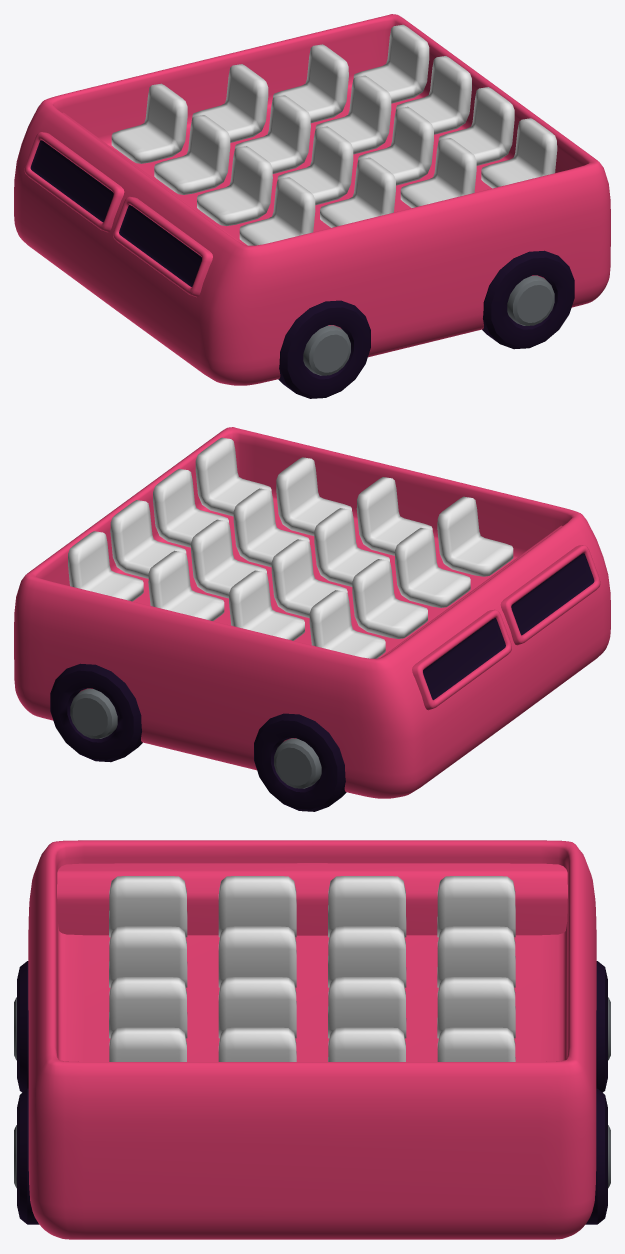
The model's file is car_Vuong.fbx.
3 views of the same model, one above another, from view 1: azimuth 30°, elevation 25°; view 2: azimuth 150°, elevation 25°; view 3: azimuth 270°, elevation 25° (orthographic). The views are drawn at different scales.
Parts seen in each view (by area): view 1: Cube.120, Cube.119, Cylinder.018, Cube.121; view 2: Cube.120, Cube.119, Cylinder.018, Cube.121; view 3: Cube.120, Cube.119, Cylinder.018.
Boxes of the visible parts, x1,y1,x2,y2 form: Cube.120: (14, 14, 610, 385); Cube.119: (111, 24, 557, 245); Cylinder.018: (278, 250, 574, 398); Cube.121: (30, 140, 201, 286); Cube.120: (14, 427, 610, 798); Cube.119: (68, 437, 513, 658); Cylinder.018: (50, 663, 346, 811); Cube.121: (423, 553, 594, 699); Cube.120: (28, 840, 596, 1239); Cube.119: (109, 876, 515, 1061); Cylinder.018: (14, 961, 610, 1224).
Bounding box in the file's own units: 422 × 173 × 420.
